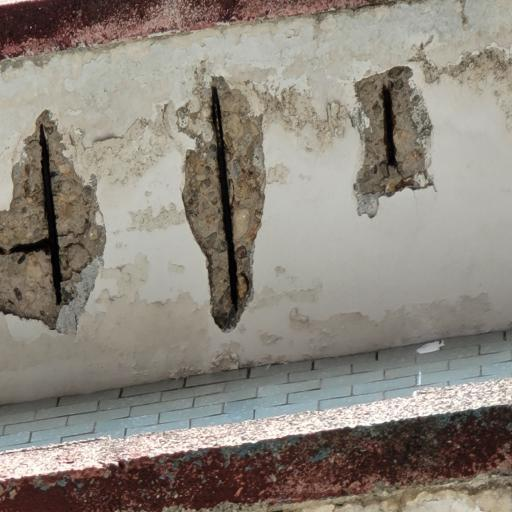exposed_rebar: (212, 87, 238, 310), (40, 124, 61, 306), (381, 86, 399, 167)
spalling: (0, 110, 106, 332), (177, 76, 266, 330), (354, 66, 434, 218)
